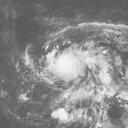cyclone: (47, 42, 117, 106)
